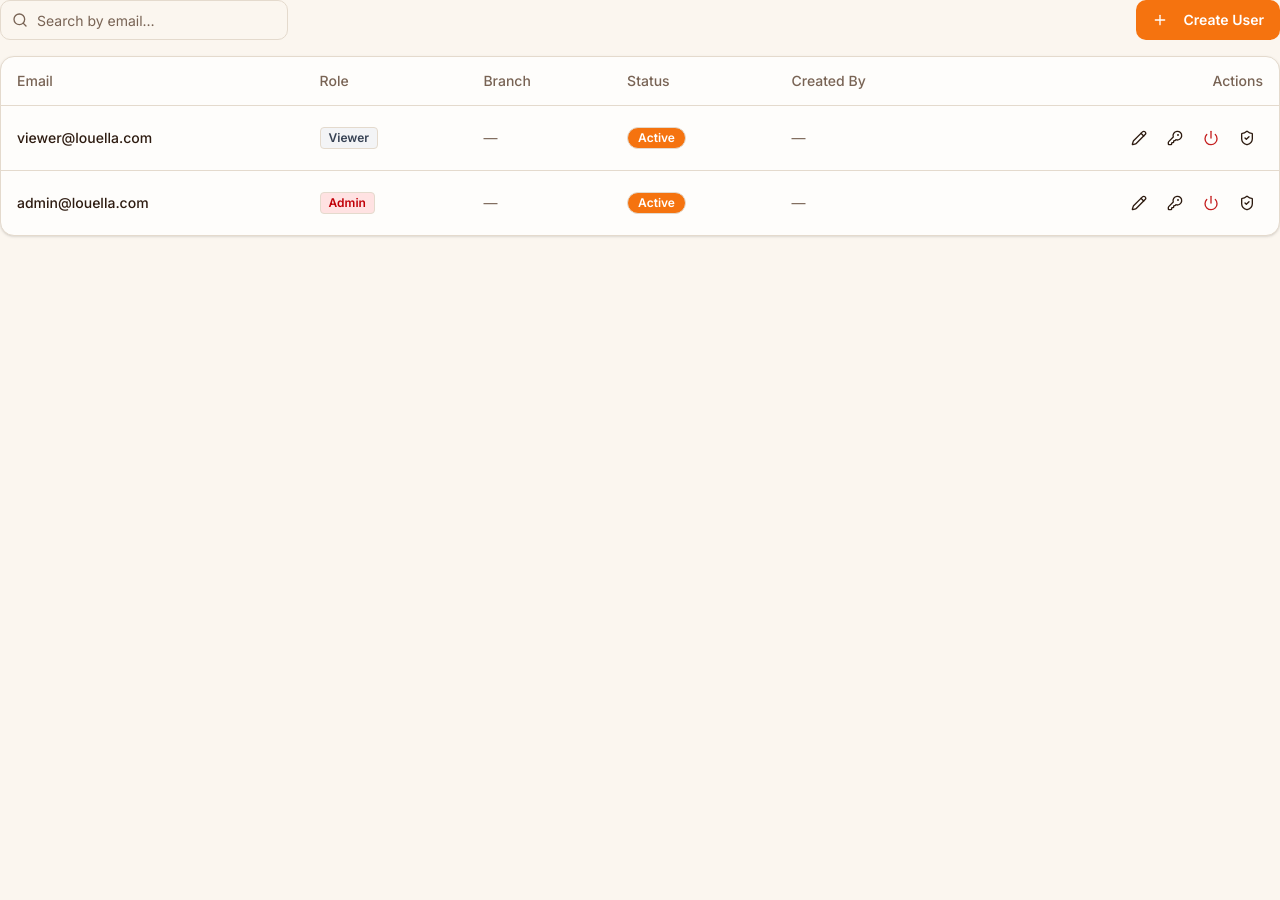
Test case: Users screen — access-aware creation › previews the screens the chosen role will grant
The width and height of the screenshot is (1280, 900).
Click the button "Create User".
click(1208, 20)  # box [1136,0,1279,40]
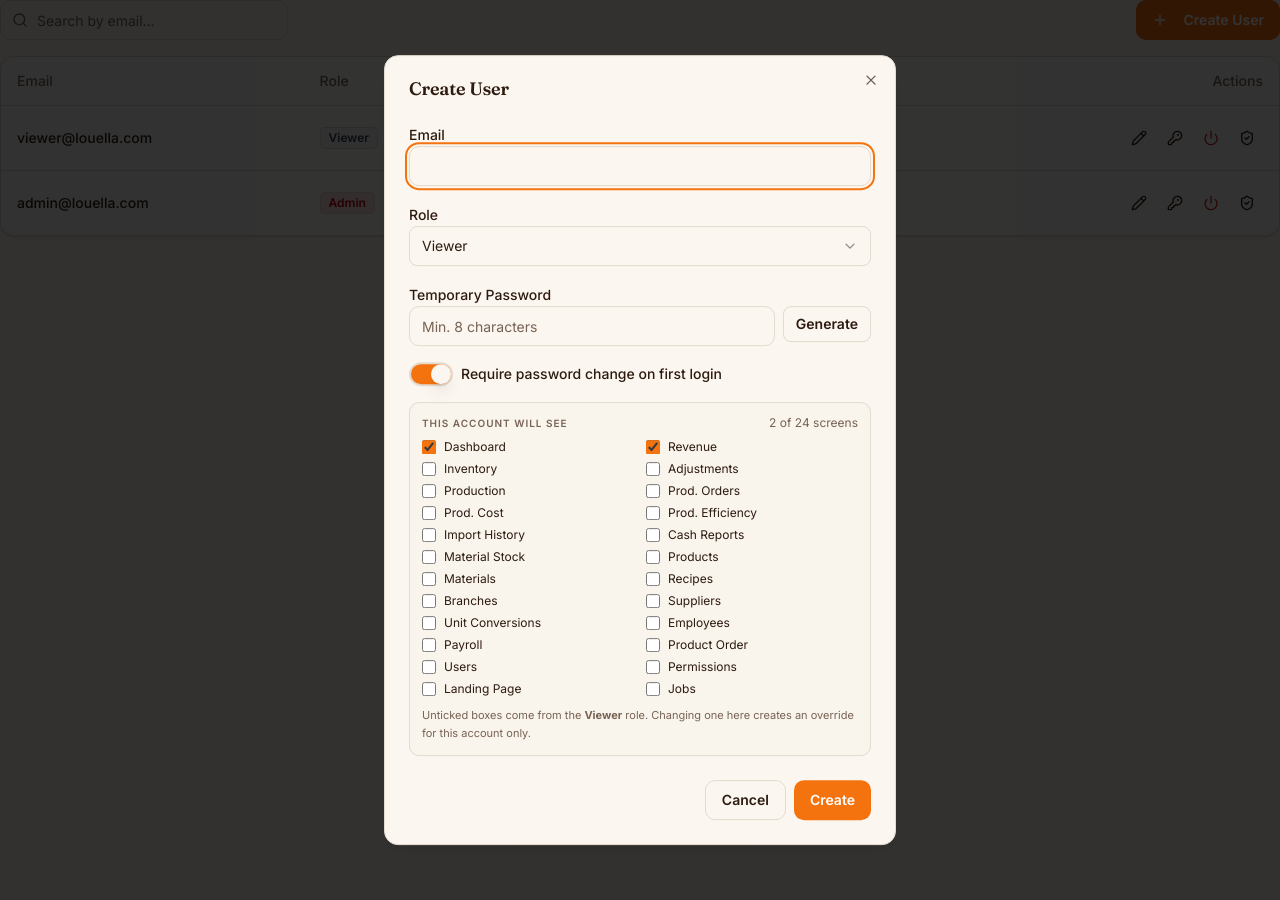
Expected: the text "This account will see" is shown, [422,416,568,431]
Expected: the checkbox labelled "Dashboard" is checked, [422,440,436,454]
Expected: the checkbox named "Revenue & Analytics" is checked, [646,440,660,454]
